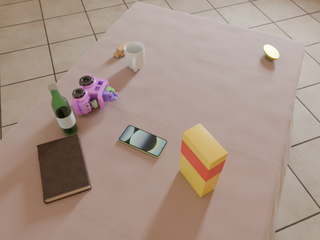book: (37, 134, 92, 204)
bottle: (48, 84, 78, 135)
box: (179, 124, 228, 197)
cup: (124, 42, 145, 72)
mouse: (264, 45, 279, 60)
phone: (119, 125, 167, 158)
toy_car: (72, 74, 118, 115), (114, 41, 131, 58)
